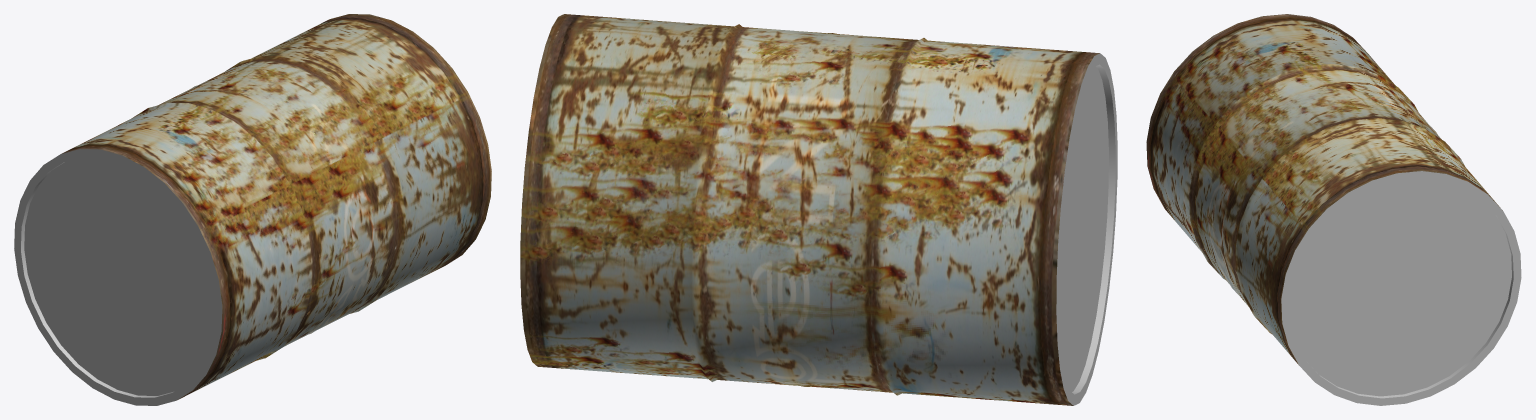
Rendered from Oil_Barrel2.fbx.
3 views of the same model, side by side, from view 1: azimuth 30°, elevation 25°; view 2: azimuth 150°, elevation 25°; view 3: azimuth 270°, elevation 25° (orthographic). The views are drawn at different scales.
Visible parts, largest first — view 1: oil Barrel_acostado_LOD0; view 2: oil Barrel_acostado_LOD0; view 3: oil Barrel_acostado_LOD0.
Part boxes in pixels (x1=…): oil Barrel_acostado_LOD0: x1=14, y1=14, x2=491, y2=405; oil Barrel_acostado_LOD0: x1=520, y1=14, x2=1117, y2=405; oil Barrel_acostado_LOD0: x1=1146, y1=14, x2=1521, y2=405.
Size of what is drawn, in the model's own units: 343 by 195 by 281.
